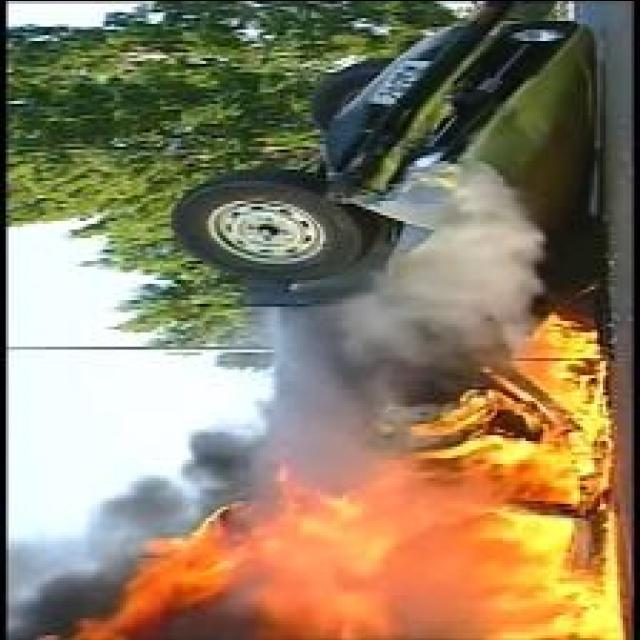Fire: (36, 312, 624, 640)
